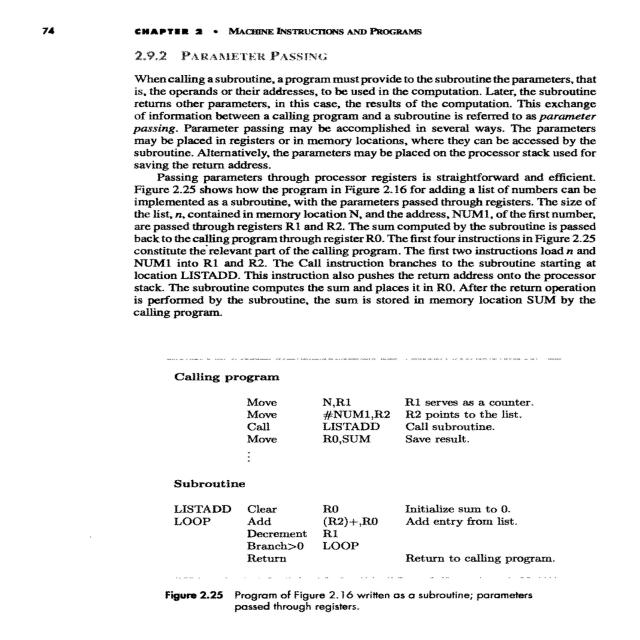diagram: (73, 361, 579, 626)
